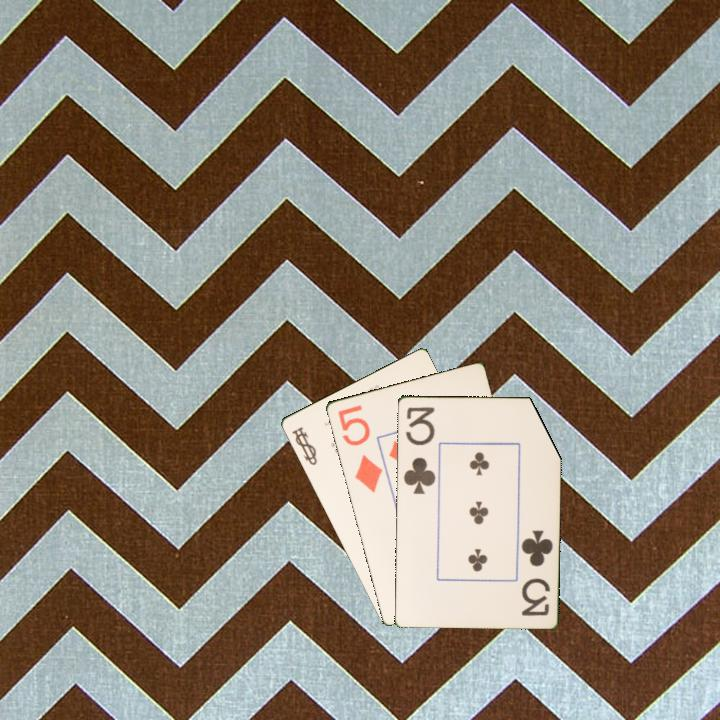3c: (400, 403, 438, 497), (518, 526, 555, 618)
5d: (334, 401, 385, 496)
JK: (288, 423, 320, 468)
